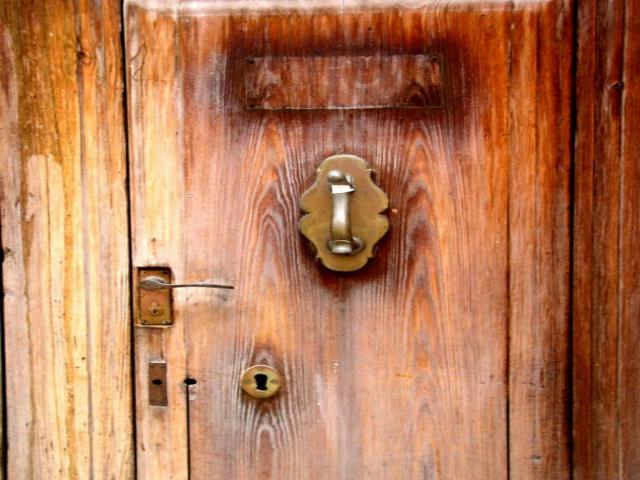Door-handle: (288, 154, 394, 276), (136, 267, 242, 326)
